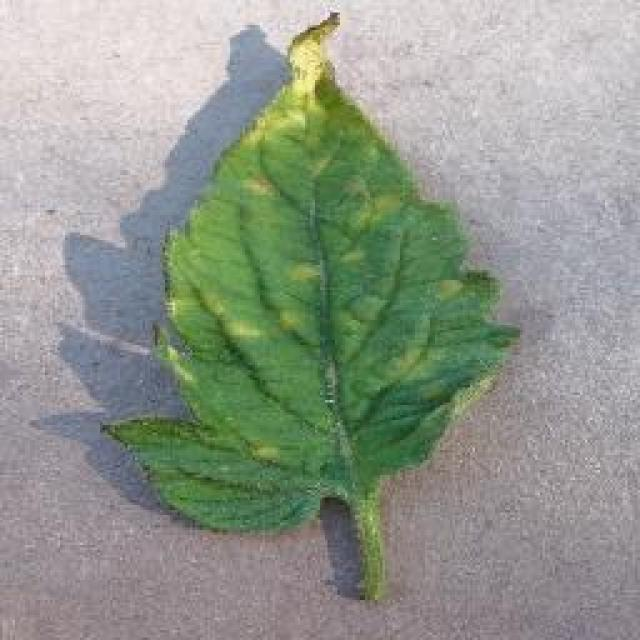Tomato mold leaf: (110, 11, 515, 531)
